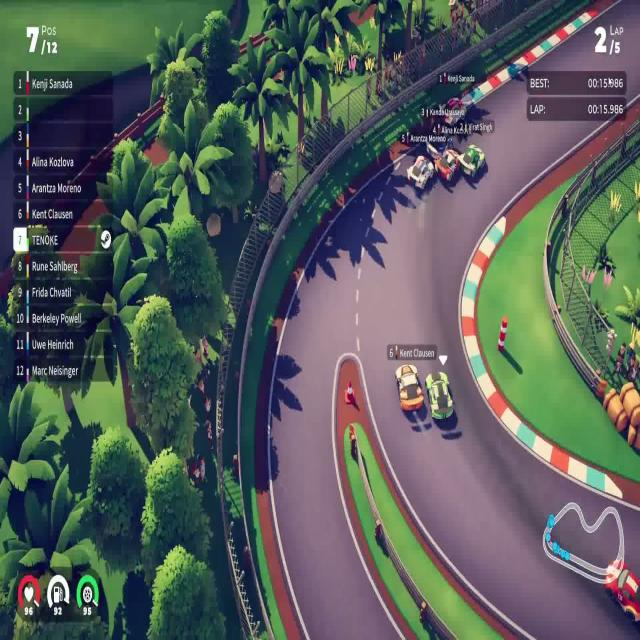car: (424, 370, 454, 422), (394, 363, 424, 413), (456, 143, 486, 180), (405, 154, 434, 192), (437, 94, 470, 127), (434, 148, 459, 183)
